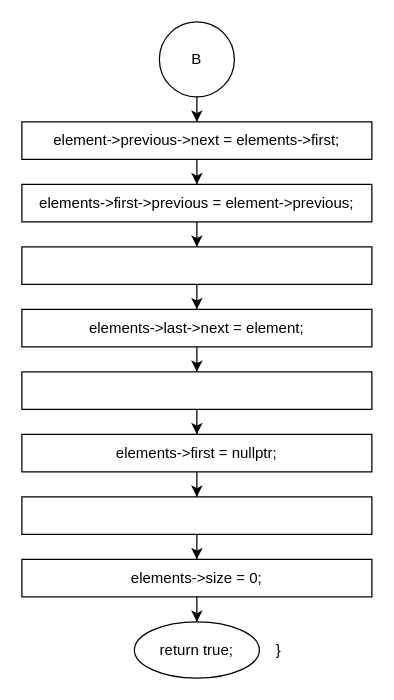
This 394x700 diagram has some shape labels left out. The centre of each missing label's shape, as x and y in pixels:
"element->previous = elements->last;" belongs at pixel 196 265.
"elements->last = nullptr;" belongs at pixel 196 515.
"list->size += elements->size;" belongs at pixel 196 390.
